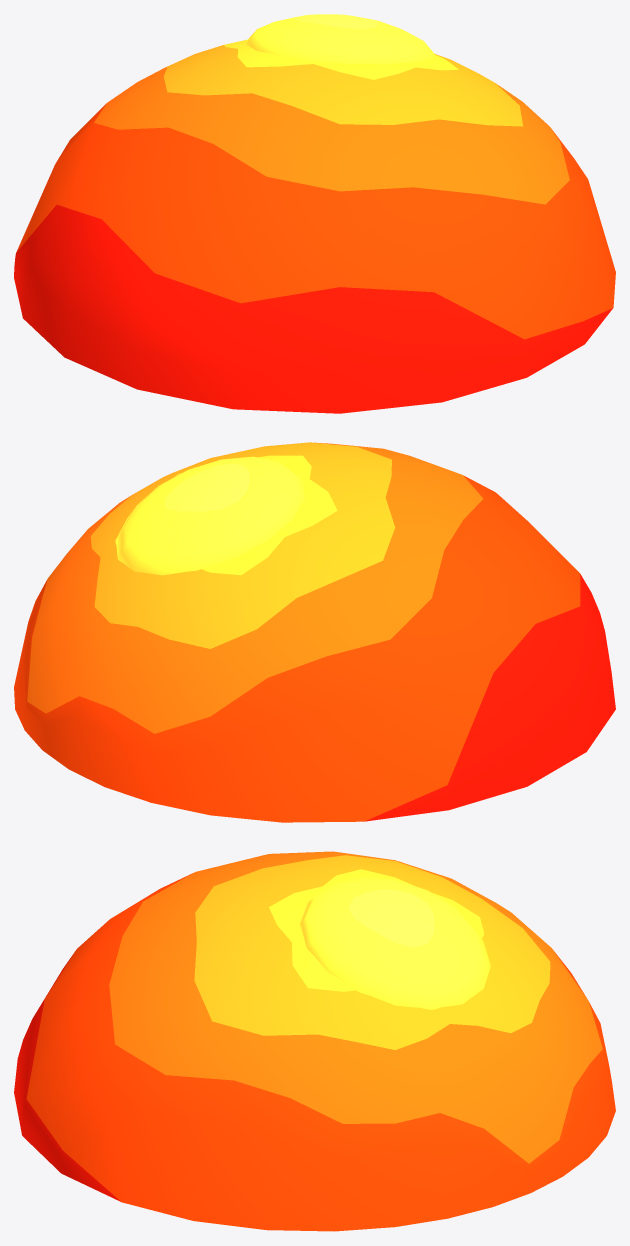
The model's file is shot_fireball_2.glb.
3 views of the same model, one above another, from view 1: azimuth 30°, elevation 25°; view 2: azimuth 150°, elevation 25°; view 3: azimuth 270°, elevation 25° (orthographic).
Parts seen in each view (by area): view 1: shot_fireball_2_fire, shot_fireball_2_core; view 2: shot_fireball_2_fire, shot_fireball_2_core; view 3: shot_fireball_2_fire, shot_fireball_2_core.
Boxes of the visible parts, box(x1,y1,x2,y2) form: shot_fireball_2_fire: box(14, 39, 615, 413); shot_fireball_2_core: box(245, 14, 434, 64); shot_fireball_2_fire: box(14, 442, 615, 822); shot_fireball_2_core: box(115, 456, 305, 575); shot_fireball_2_fire: box(14, 851, 615, 1231); shot_fireball_2_core: box(299, 877, 490, 1009).
Size of the model in its own units: 10.08 by 4.28 by 10.07.
